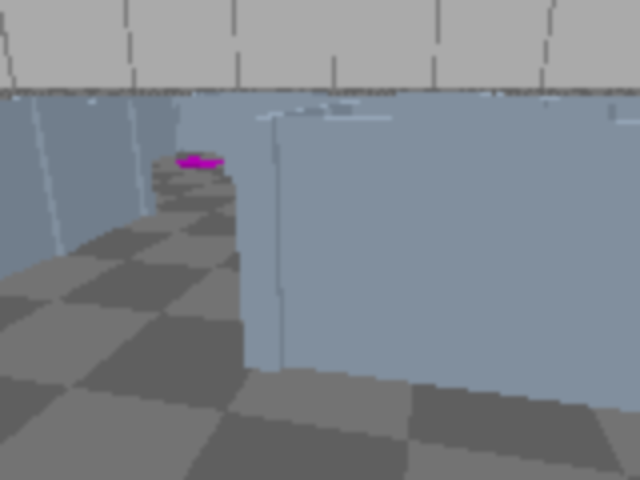goal_zone: (166, 158, 234, 167)
puck: (376, 471, 429, 478)
